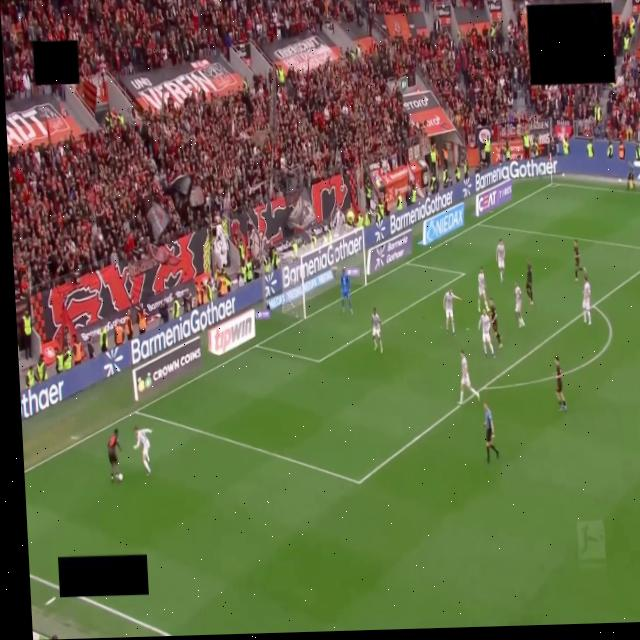ball: (118, 474, 122, 481)
player: (459, 350, 479, 404), (134, 427, 152, 475), (478, 310, 494, 358), (444, 289, 460, 335), (554, 356, 567, 410), (107, 429, 120, 481), (489, 298, 502, 348), (341, 269, 352, 313), (515, 281, 525, 327), (574, 239, 585, 280), (372, 308, 382, 353), (478, 268, 488, 312), (583, 276, 591, 325), (496, 240, 505, 282), (526, 259, 533, 304)
referee: (483, 403, 498, 463)
